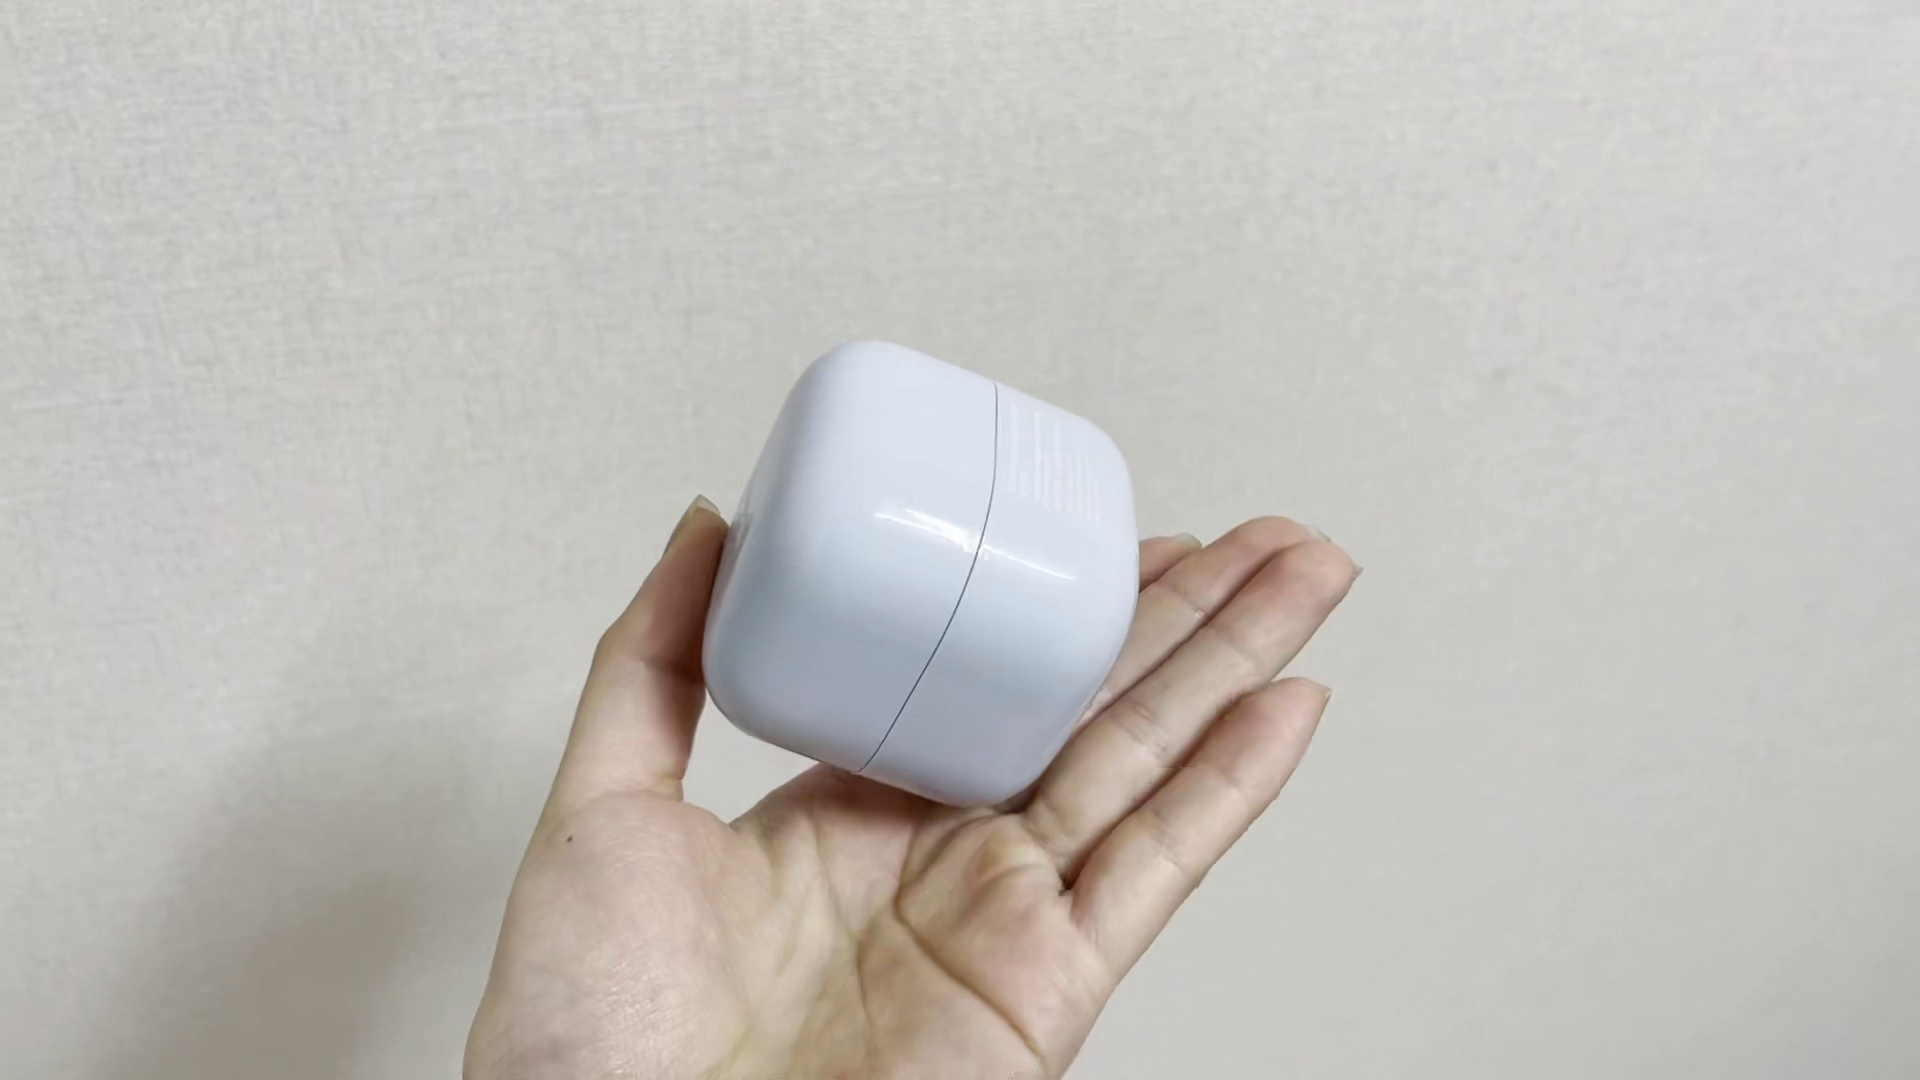cream: (704, 338, 1138, 808)
